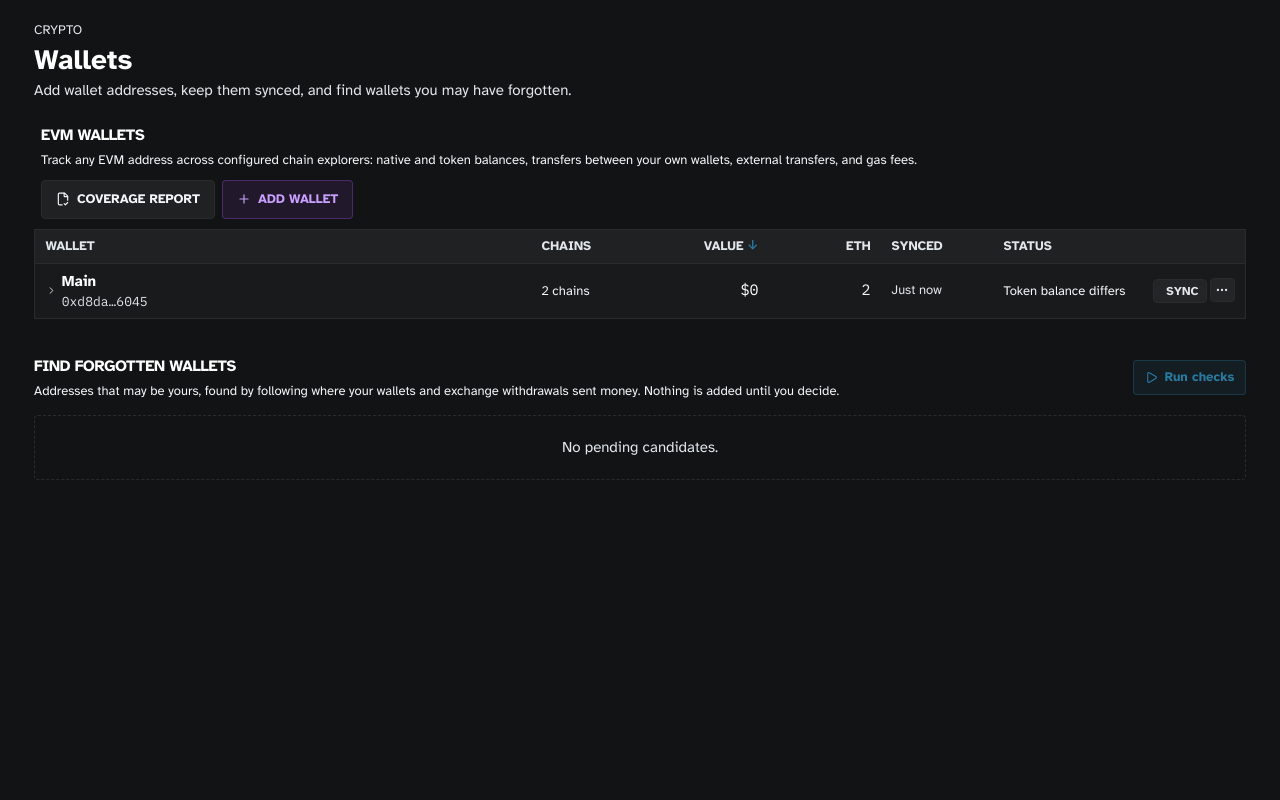
Crypto -> Wallets tab › names the offending contract on a token mismatch rather than a bare number
Check: the heading "EVM Wallets" is shown, box [41, 125, 144, 145]
Check: the text "Token balance differs" is shown, box [1004, 283, 1125, 299]
Click the text "Main".
click(79, 281)  # box [62, 272, 96, 290]
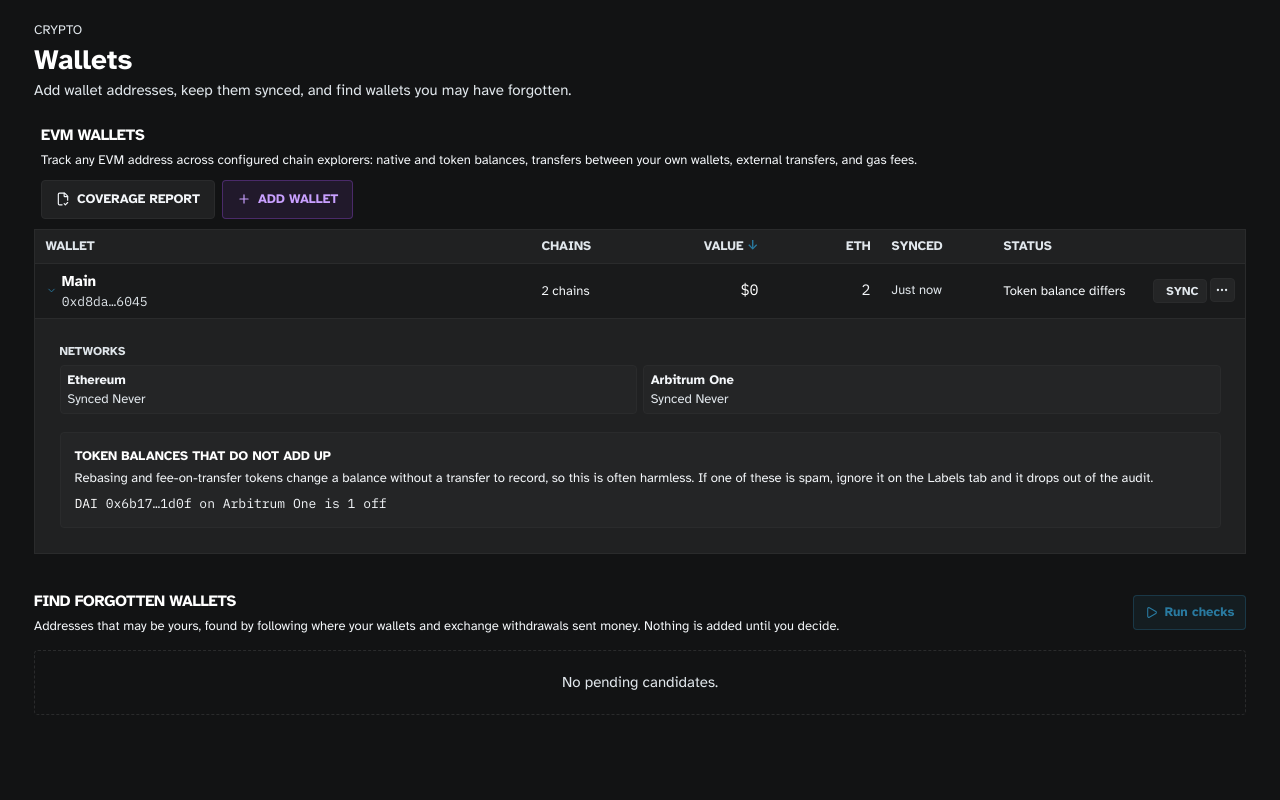
Check: the text "Token balances that do not add up" is shown, box [74, 448, 331, 464]
Check: the text titled "0x6b175474e89094c44da98b954eedeac495271d0f" is shown, box [106, 495, 192, 512]
Check: the list item "DAI 0x6b17…1d0f on Arbitrum One is 1 off" is shown, box [74, 495, 387, 512]
